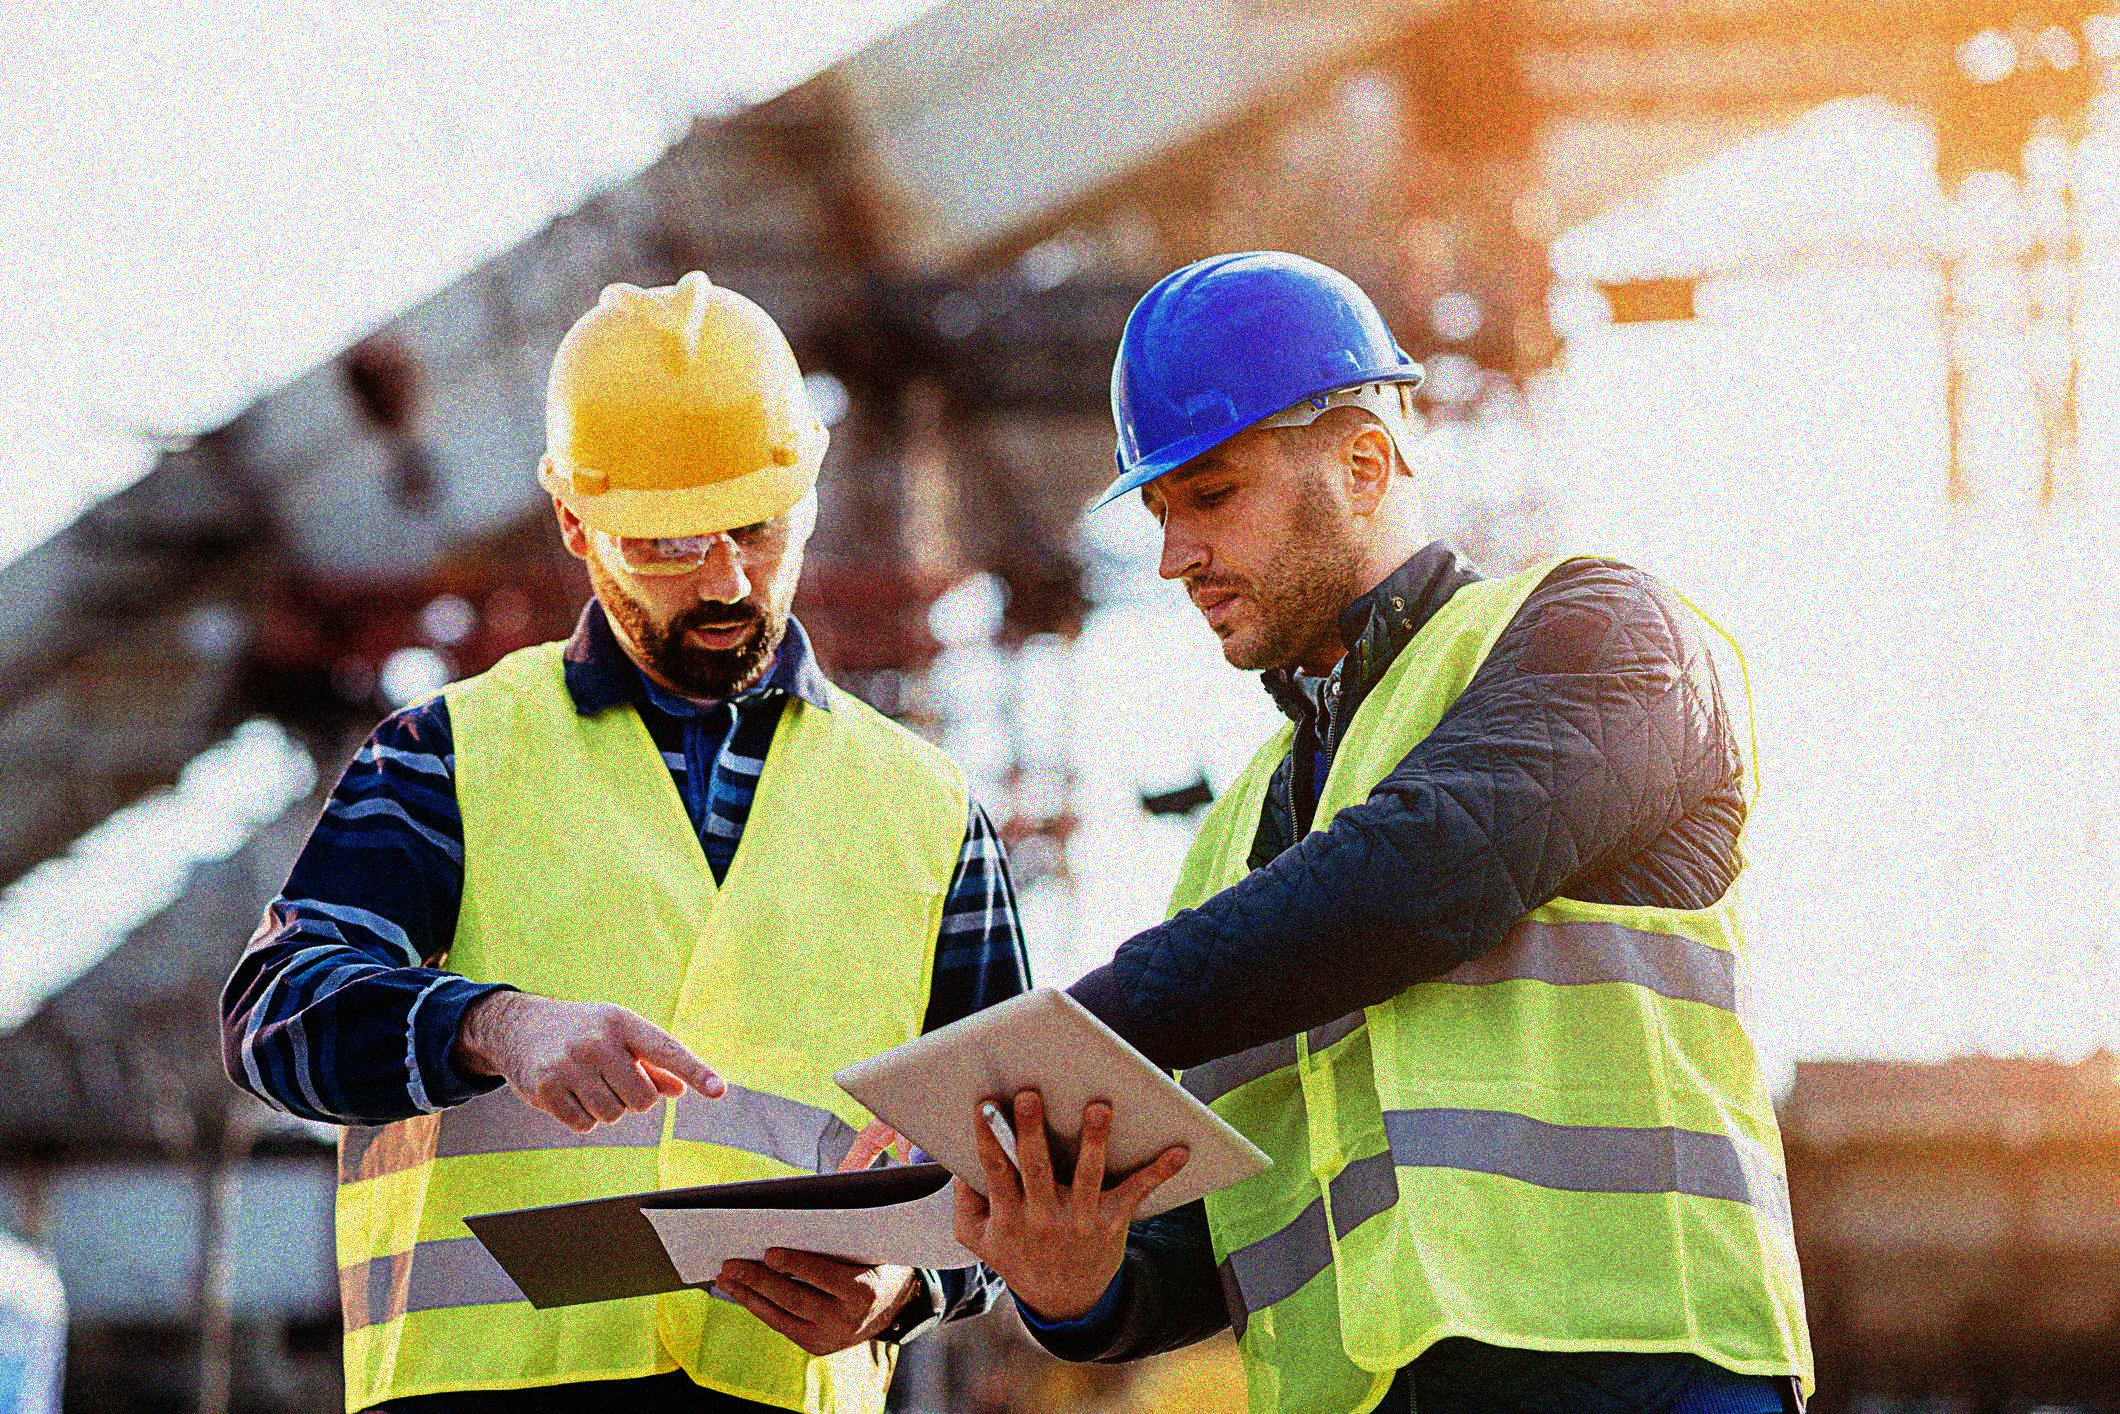helmet: (1082, 248, 1432, 672), (535, 270, 845, 705)
